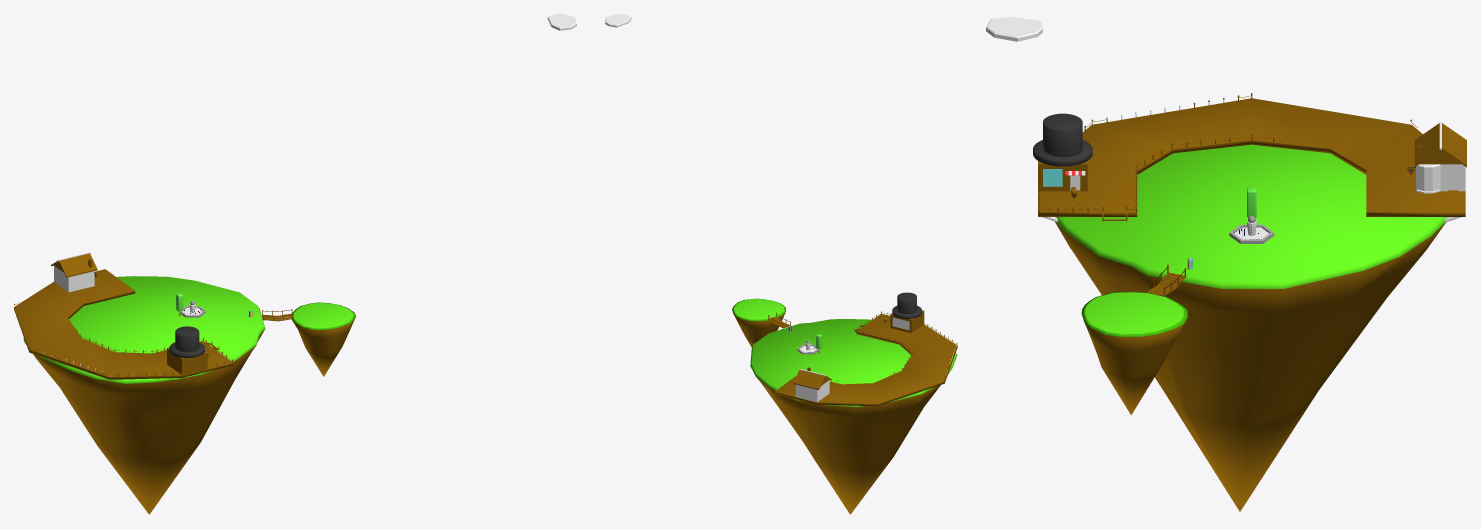
The model's file is ConeyIsland.glb.
3 renders of one model, left to right at view 1: azimuth 30°, elevation 25°; view 2: azimuth 150°, elevation 25°; view 3: azimuth 270°, elevation 25°, orthographic. The views are drawn at different scales.
Visible parts, largest first — view 1: Circle, Cube.004, Circle.001, Cube.003, Cube.014, Cube.013; view 2: Circle, Cube.004, Circle.001, Cube.014, Cube.013, Cylinder.052; view 3: Circle, Cube.004, Circle.001, Cylinder.052, Cube.013, Cube.038, Cube.003, Cylinder, Cube.014, Cube.010.
Part boxes in pixels (x1=…): Circle: x1=23, y1=276, x2=265, y2=514; Cube.004: x1=14, y1=269, x2=233, y2=379; Circle.001: x1=291, y1=302, x2=356, y2=376; Cube.003: x1=167, y1=347, x2=207, y2=374; Cube.014: x1=54, y1=266, x2=94, y2=292; Cube.013: x1=51, y1=253, x2=97, y2=277; Circle: x1=750, y1=319, x2=957, y2=514; Cube.004: x1=774, y1=314, x2=957, y2=406; Circle.001: x1=732, y1=298, x2=785, y2=346; Cube.014: x1=795, y1=380, x2=829, y2=402; Cube.013: x1=793, y1=369, x2=831, y2=389; Cylinder.052: x1=897, y1=292, x2=916, y2=313; Circle: x1=1055, y1=144, x2=1448, y2=511; Cube.004: x1=1038, y1=98, x2=1465, y2=216; Circle.001: x1=1081, y1=292, x2=1188, y2=414; Cylinder.052: x1=1043, y1=113, x2=1082, y2=156; Cube.013: x1=1414, y1=123, x2=1466, y2=167; Cube.038: x1=986, y1=16, x2=1042, y2=41; Cube.003: x1=1038, y1=161, x2=1087, y2=191; Cylinder: x1=1033, y1=140, x2=1092, y2=166; Cube.014: x1=1416, y1=164, x2=1465, y2=193; Cube.010: x1=1417, y1=167, x2=1439, y2=191.
Bounding box in the file's own units: 185 × 170 × 96.68.
26 materials, 2 textured.
